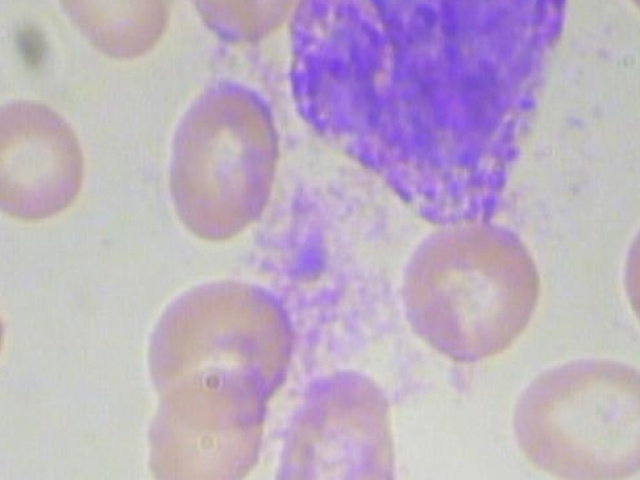RBC: (382, 215, 548, 364), (154, 80, 282, 244), (504, 343, 640, 480), (274, 360, 406, 480), (141, 357, 269, 480), (0, 84, 94, 228), (45, 0, 185, 63), (174, 0, 306, 53), (615, 201, 640, 349), (0, 251, 10, 387), (610, 0, 640, 28)
